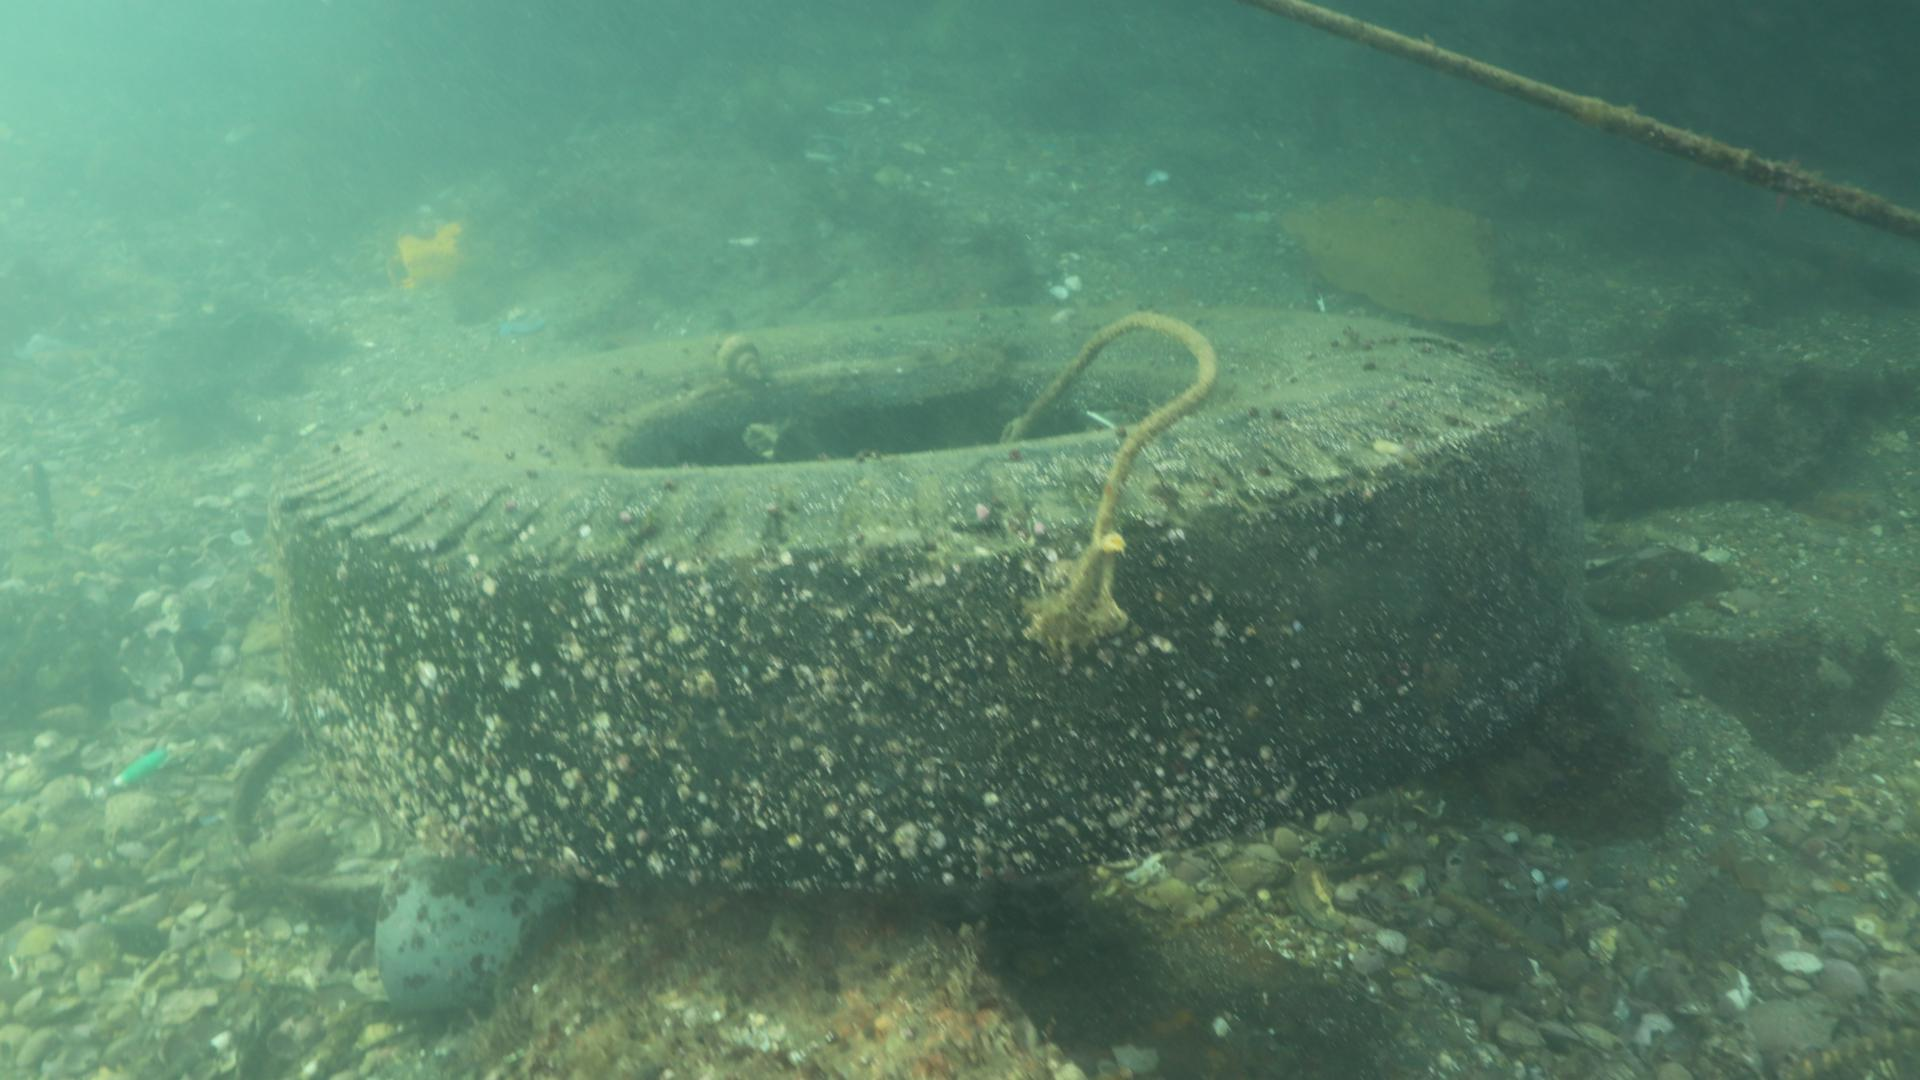rope: (1000, 310, 1215, 526)
tire: (272, 305, 1581, 894)
